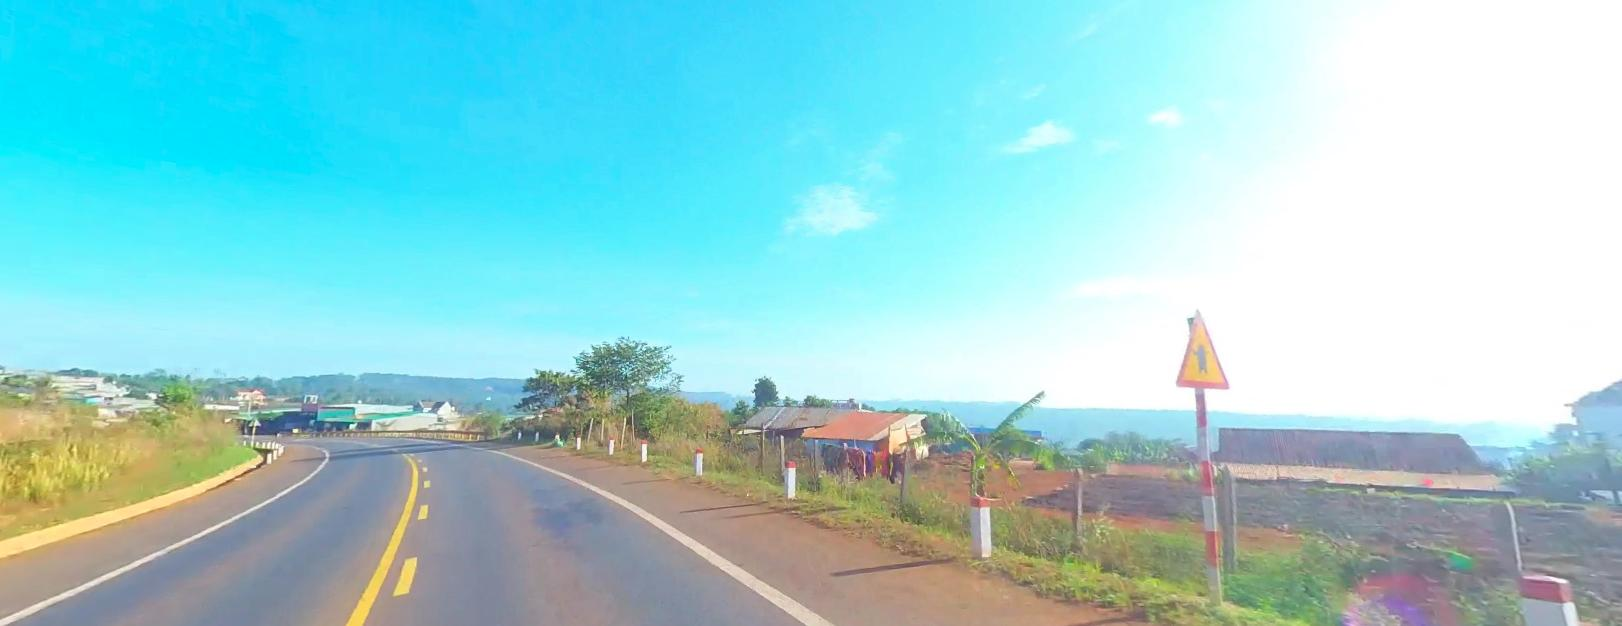Nguy hiem: (1174, 309, 1230, 387)
